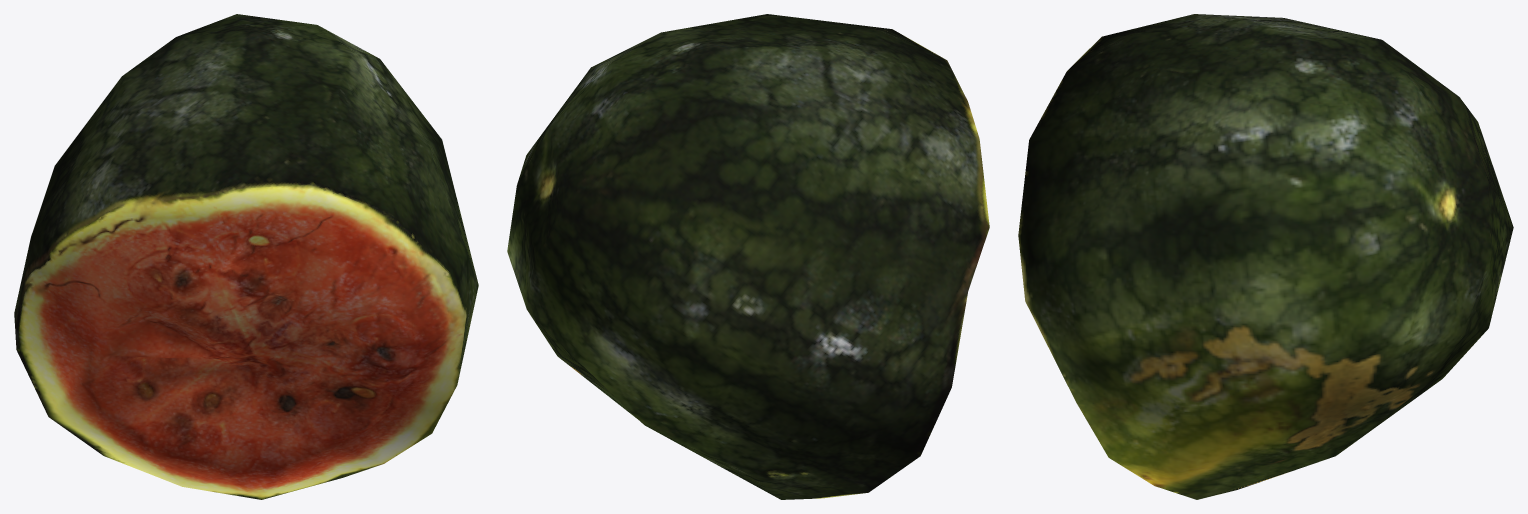
Rendered from watermelon.obj.
3 renders of one model, left to right at view 1: azimuth 30°, elevation 25°; view 2: azimuth 150°, elevation 25°; view 3: azimuth 270°, elevation 25°, orthographic. The views are drawn at different scales.
Visible parts, largest first — view 1: watermelon; view 2: watermelon; view 3: watermelon.
Part boxes in pixels (x1,y1,x2,y2): watermelon: [14, 14, 478, 499]; watermelon: [507, 14, 989, 499]; watermelon: [1018, 14, 1513, 499].
Size of the model in its own units: 1.26 by 1.32 by 1.28.
